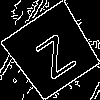Z: (27, 26, 78, 80)
